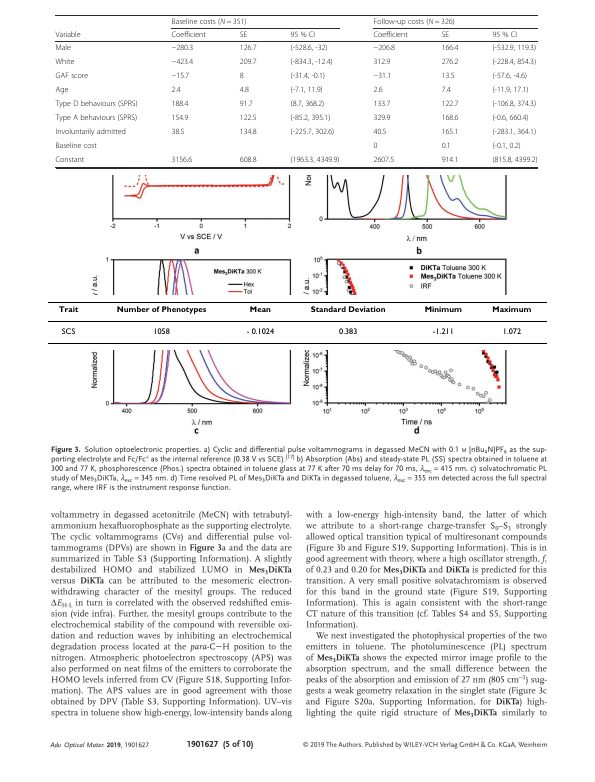borderless: (54, 13, 537, 167), (47, 300, 547, 343)
cell: (54, 99, 138, 109), (54, 113, 138, 123), (115, 305, 207, 314), (372, 17, 456, 26), (54, 127, 127, 137), (309, 305, 386, 314), (171, 17, 247, 26), (290, 155, 340, 165), (491, 155, 538, 165), (491, 43, 537, 53), (491, 57, 537, 67), (491, 99, 537, 109), (491, 127, 537, 137), (290, 127, 335, 137), (54, 141, 98, 151), (290, 57, 333, 67), (290, 113, 331, 123), (290, 43, 328, 53), (491, 85, 529, 95), (491, 113, 529, 123), (372, 30, 409, 40), (491, 71, 528, 81), (491, 305, 532, 314), (171, 30, 207, 40), (290, 71, 326, 81), (423, 305, 462, 314), (54, 71, 89, 81), (290, 99, 325, 109), (290, 85, 324, 95), (491, 141, 522, 151), (54, 155, 85, 165), (54, 30, 81, 40), (491, 30, 518, 40), (290, 30, 316, 40), (245, 327, 275, 335), (372, 43, 396, 53), (171, 43, 194, 53), (171, 57, 194, 67), (372, 155, 395, 165), (171, 155, 193, 165), (54, 57, 75, 67), (248, 305, 271, 314), (372, 71, 392, 81), (57, 305, 79, 314), (372, 57, 391, 67), (171, 71, 190, 81), (372, 99, 391, 109), (372, 113, 391, 123), (431, 327, 454, 335), (54, 43, 72, 53), (239, 43, 257, 53), (441, 43, 459, 53), (239, 57, 257, 67), (441, 57, 459, 67), (171, 99, 189, 109), (441, 99, 459, 109), (171, 113, 189, 123), (239, 113, 257, 123), (441, 113, 459, 123), (239, 127, 257, 137), (441, 127, 459, 137), (239, 155, 257, 165), (441, 155, 459, 165), (501, 327, 522, 335), (338, 327, 358, 335), (54, 85, 69, 95), (239, 99, 254, 109), (372, 127, 387, 137), (152, 327, 170, 335), (441, 71, 455, 81), (171, 127, 185, 137), (60, 327, 76, 335), (171, 85, 182, 95), (239, 85, 250, 95), (372, 85, 383, 95), (441, 85, 452, 95), (441, 141, 452, 151), (239, 30, 248, 40), (441, 30, 450, 40), (239, 71, 245, 81), (372, 141, 378, 151)
